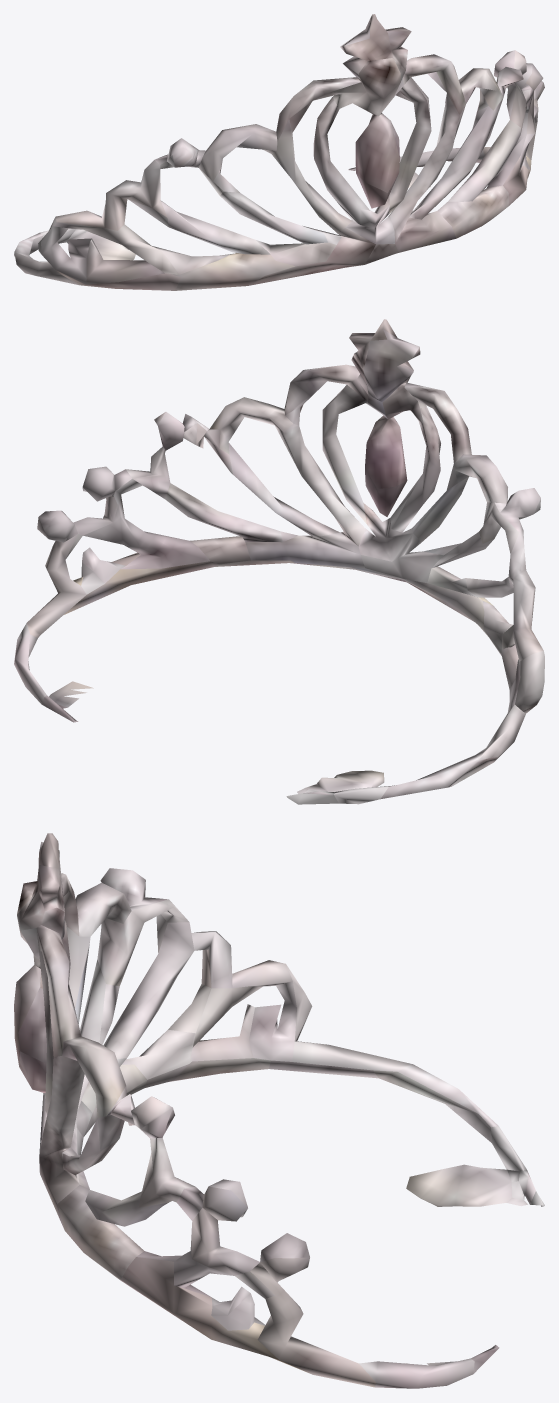
3 views of the same model, one above another, from view 1: azimuth 30°, elevation 25°; view 2: azimuth 150°, elevation 25°; view 3: azimuth 270°, elevation 25° (orthographic). The views are drawn at different scales.
Visible parts, largest first — view 1: Silver-Tiara-19; view 2: Silver-Tiara-19; view 3: Silver-Tiara-19.
Boxes of the visible parts, box(x1,y1,x2,y2) form: Silver-Tiara-19: box(14, 14, 544, 290); Silver-Tiara-19: box(14, 319, 544, 804); Silver-Tiara-19: box(14, 833, 544, 1388).
Bounding box in the file's own units: 0.3175 × 0.1953 × 0.215.
Materials: 1 (1 with a texture image).
